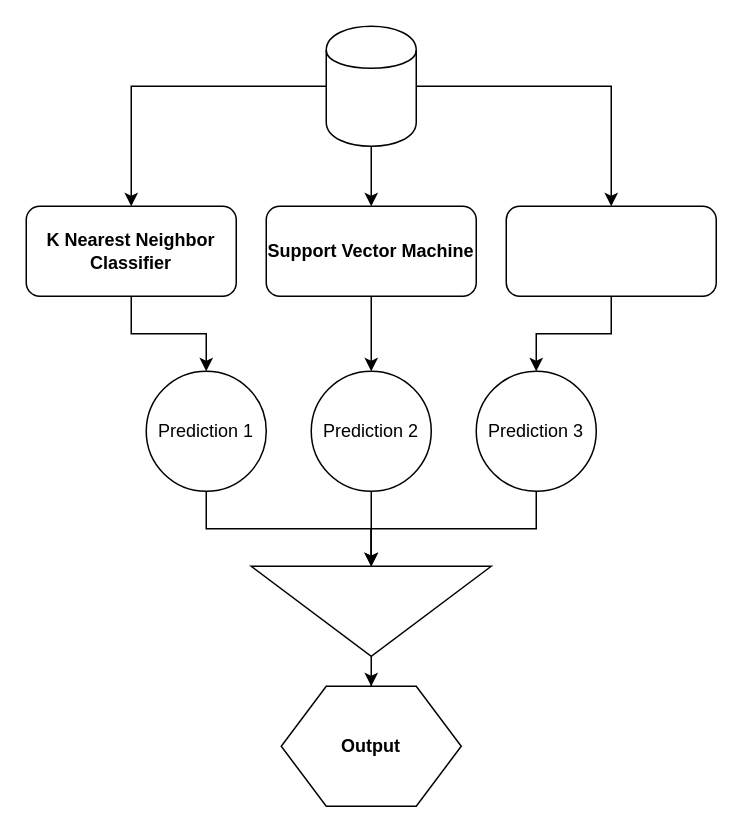
This 743x833 diagram has some shape labels left out. Each missing label, with the box of its shape:
Data: (325, 25, 416, 146)
Feed Forward Neural Network: (505, 205, 716, 296)
Voting: (250, 565, 491, 656)
